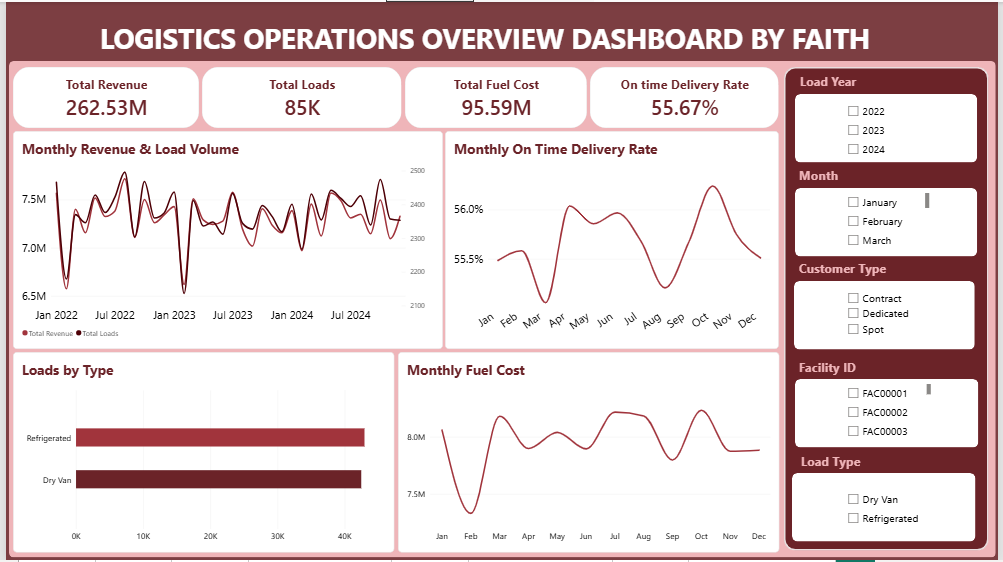

Layout of this report page (visuals, bound fields, positions):
{"tool":"powerbi","page":{"name":"Logistics Operations Overview","canvas":[1920,1080],"ordinal":0},"visuals":[{"type":"shape","box":[5.6,114.4,1910,961.1],"z":0},{"type":"shape","box":[1506,126,396,936],"z":1000},{"type":"shape","box":[1527.5,177.5,352.5,132.5],"z":2000},{"type":"shape","box":[1527.5,360,352.5,132.5],"z":3000},{"type":"shape","box":[1525,540,350,132.5],"z":4000},{"type":"shape","box":[1527.5,730,355,132.5],"z":5000},{"type":"textbox","box":[1535.8,137.5,377.5,40],"z":6000},{"type":"textbox","box":[1535.7,320,377.5,40],"z":7000},{"type":"textbox","box":[1538,872,377.5,40],"z":8000},{"type":"textbox","box":[1535.7,500,377.5,40],"z":9000},{"type":"textbox","box":[182.5,32.5,1700,82.5],"z":10000},{"type":"shape","box":[1522,912,355,132.5],"z":11000},{"type":"textbox","box":[1535.7,690,377.5,40],"z":12000},{"type":"cardVisual","fields":{"Data":["delivery_events.Total Loads"]},"box":[380,125.8,386.7,118.3],"z":13000},{"type":"cardVisual","fields":{"Data":["delivery_events.Total Fuel Cost"]},"box":[772.5,125.8,352.5,118.3],"z":14000},{"type":"cardVisual","fields":{"Data":["customers.Total Revenue"]},"box":[13.3,125.8,360.8,118.3],"z":15000},{"type":"cardVisual","fields":{"Data":["delivery_events.On time Delivery Rate"]},"box":[1130.8,125.8,365.8,118.3],"z":16000},{"type":"slicer","fields":{"Values":["loads.Load year"]},"box":[1622.5,192.7,176.5,140.3],"z":17000},{"type":"slicer","fields":{"Values":["loads.load_date.Variation.Date Hierarchy.Month"]},"box":[1622.5,370,165,113.8],"z":18000},{"type":"slicer","fields":{"Values":["customers.customer_type"]},"box":[1622.5,557.5,205,130],"z":19000},{"type":"slicer","fields":{"Values":["delivery_events.facility_id"]},"box":[1622.5,740,167.5,105],"z":20000},{"type":"slicer","fields":{"Values":["loads.load_type"]},"box":[1622.1,945.3,176.7,105],"z":21000},{"type":"lineChart","title":"Monthly Revenue & Load Volume","fields":{"Category":["loads.load_date.Variation.Date Hierarchy.Year","loads.load_date.Variation.Date Hierarchy.Month"],"Y":["customers.Total Revenue"],"Y2":["delivery_events.Total Loads"]},"box":[14,250,832,422],"z":22000},{"type":"lineChart","title":"Monthly On Time Delivery Rate","fields":{"Category":["delivery_events.Scheduled Month"],"Y":["delivery_events.On time Delivery Rate"]},"box":[850,250,646,422],"z":23000},{"type":"barChart","title":"Loads by Type","fields":{"Category":["loads.load_type"],"Y":["delivery_events.Total Loads"]},"box":[14,678,738,388],"z":24000},{"type":"lineChart","title":"Monthly Fuel Cost","fields":{"Category":["fuel_purchases.Purchase Month"],"Y":["delivery_events.Total Fuel Cost"]},"box":[758,678,738,388],"z":25000}]}

Visuals, with their boxes in screenshot pixels (x1, y1, x2, y2), scaled from the page's 1920x1080 canvas onto the 1003x562 screenshot:
shape: <box>3,60,1001,560</box>
shape: <box>787,66,994,553</box>
shape: <box>798,92,982,161</box>
shape: <box>798,187,982,256</box>
shape: <box>797,281,979,350</box>
shape: <box>798,380,983,449</box>
textbox: <box>802,72,999,92</box>
textbox: <box>802,167,999,187</box>
textbox: <box>803,454,1001,475</box>
textbox: <box>802,260,999,281</box>
textbox: <box>95,17,983,60</box>
shape: <box>795,475,981,544</box>
textbox: <box>802,359,999,380</box>
cardVisual - delivery_events.Total Loads: <box>199,65,401,127</box>
cardVisual - delivery_events.Total Fuel Cost: <box>404,65,588,127</box>
cardVisual - customers.Total Revenue: <box>7,65,195,127</box>
cardVisual - delivery_events.On time Delivery Rate: <box>591,65,782,127</box>
slicer - loads.Load year: <box>848,100,940,173</box>
slicer - loads.load_date.Variation.Date Hierarchy.Month: <box>848,193,934,252</box>
slicer - customers.customer_type: <box>848,290,955,358</box>
slicer - delivery_events.facility_id: <box>848,385,935,440</box>
slicer - loads.load_type: <box>847,492,940,547</box>
"Monthly Revenue & Load Volume" lineChart: <box>7,130,442,350</box>
"Monthly On Time Delivery Rate" lineChart: <box>444,130,782,350</box>
"Loads by Type" barChart: <box>7,353,393,555</box>
"Monthly Fuel Cost" lineChart: <box>396,353,782,555</box>
